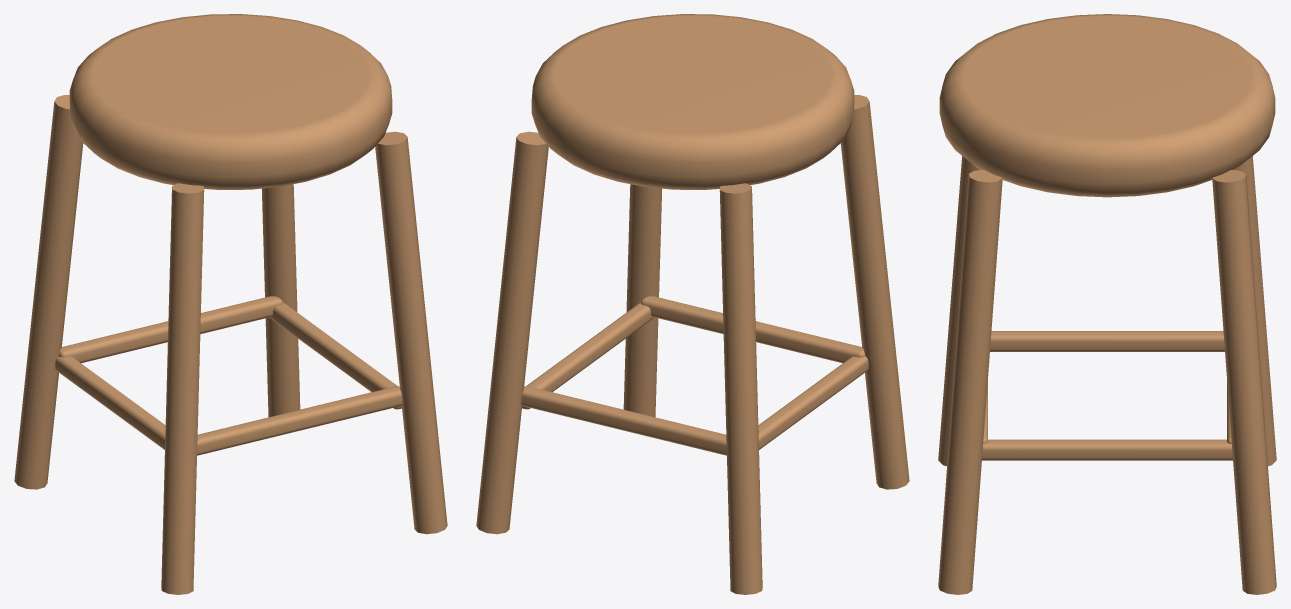
The model's file is kitchenBarStoolOak.glb.
3 views of the same model, side by side, from view 1: azimuth 30°, elevation 25°; view 2: azimuth 150°, elevation 25°; view 3: azimuth 270°, elevation 25° (orthographic). The views are drawn at different scales.
Parts seen in each view (by area): view 1: Rounded bar stool seat, Splayed chair leg.002, Splayed chair leg, Splayed chair leg.001, Splayed chair leg.003, Bar stool cross rail, Bar stool cross rail.001, Bar stool foot rail.001, Bar stool foot rail; view 2: Rounded bar stool seat, Splayed chair leg.003, Splayed chair leg.001, Splayed chair leg, Splayed chair leg.002, Bar stool cross rail.001, Bar stool cross rail, Bar stool foot rail.001, Bar stool foot rail; view 3: Rounded bar stool seat, Splayed chair leg.002, Splayed chair leg.003, Bar stool foot rail.001, Bar stool foot rail, Splayed chair leg, Splayed chair leg.001.
Part boxes in pixels (x1,y1,x2,y2): Rounded bar stool seat: (69,14,392,189); Splayed chair leg.002: (375,131,447,534); Splayed chair leg: (161,183,204,594); Splayed chair leg.001: (14,95,83,489); Splayed chair leg.003: (261,184,300,417); Bar stool cross rail: (197,386,402,455); Bar stool cross rail.001: (58,296,282,363); Bar stool foot rail.001: (269,302,401,409); Bar stool foot rail: (55,356,165,449); Rounded bar stool seat: (531,14,854,189); Splayed chair leg.003: (476,131,548,534); Splayed chair leg.001: (719,183,762,594); Splayed chair leg: (840,95,909,489); Splayed chair leg.002: (623,184,662,417); Bar stool cross rail.001: (521,386,726,455); Bar stool cross rail: (641,296,865,363); Bar stool foot rail.001: (522,302,654,409); Bar stool foot rail: (758,356,868,449); Rounded bar stool seat: (939,14,1275,197); Splayed chair leg.002: (938,170,1002,594); Splayed chair leg.003: (1212,170,1276,594); Bar stool foot rail.001: (982,439,1232,460); Bar stool foot rail: (990,331,1224,351); Splayed chair leg: (938,156,980,466); Splayed chair leg.001: (1234,156,1276,466).
Bounding box in the file's own units: 0.6451 × 0.9431 × 0.6451.
